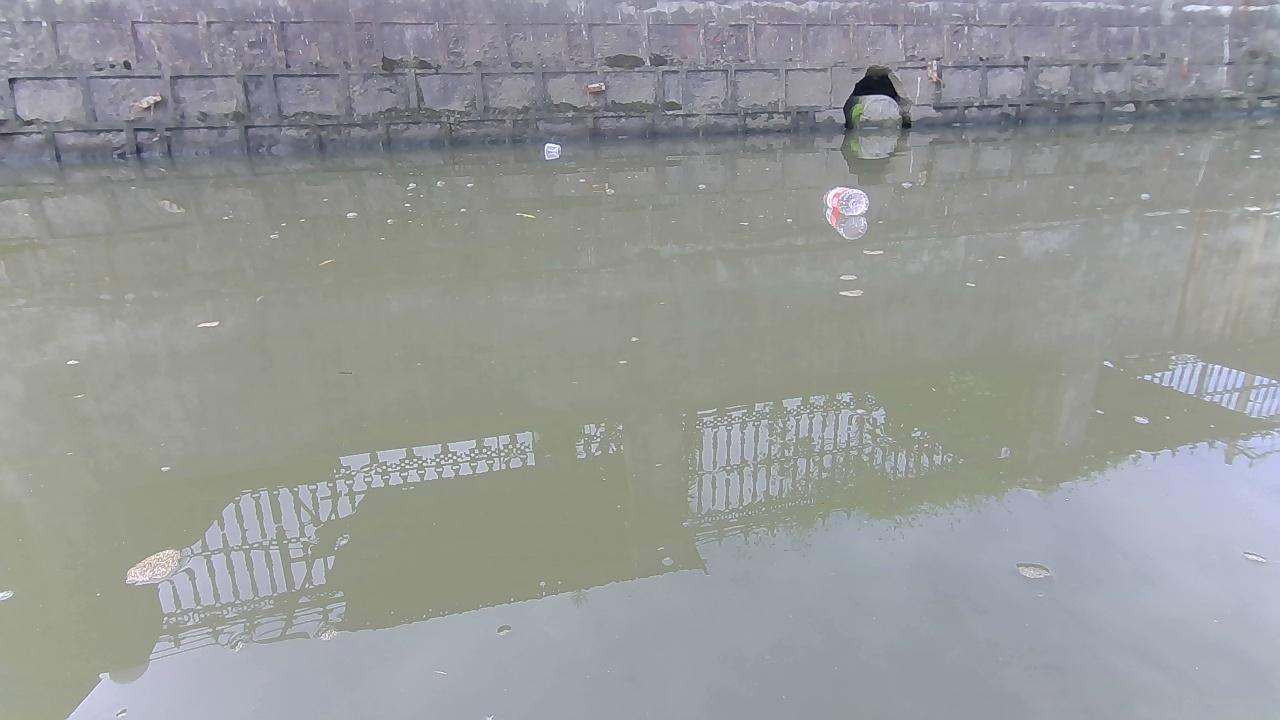bottle: (819, 183, 866, 216), (540, 137, 565, 157)
